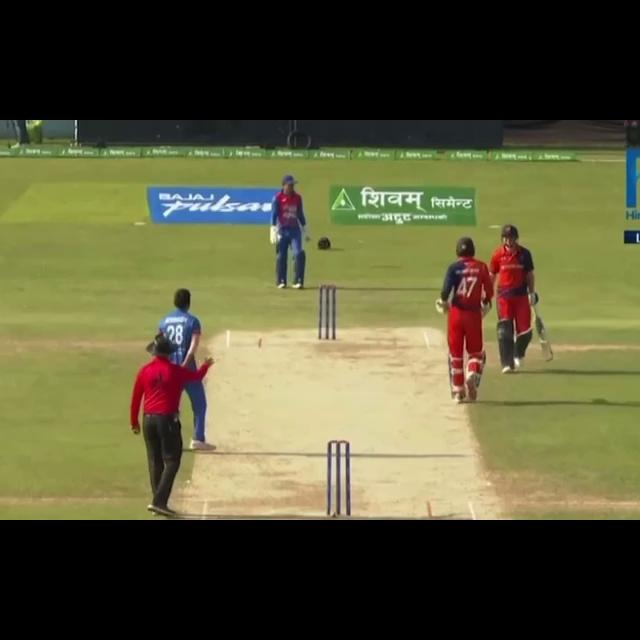umpire: (124, 332, 218, 520)
